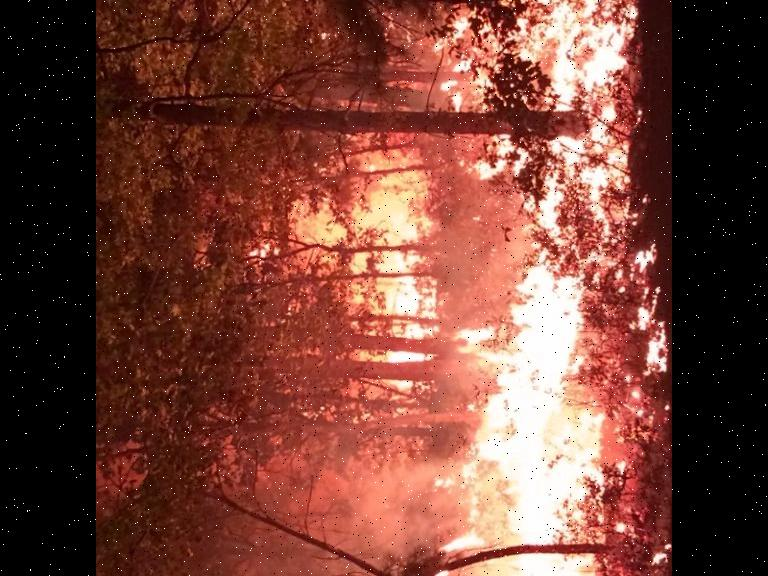fire: (301, 0, 672, 576)
